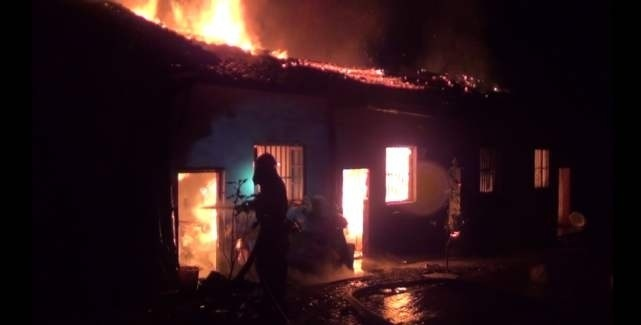fire: (116, 0, 261, 52), (179, 169, 218, 266), (340, 165, 368, 250), (385, 144, 412, 202)
